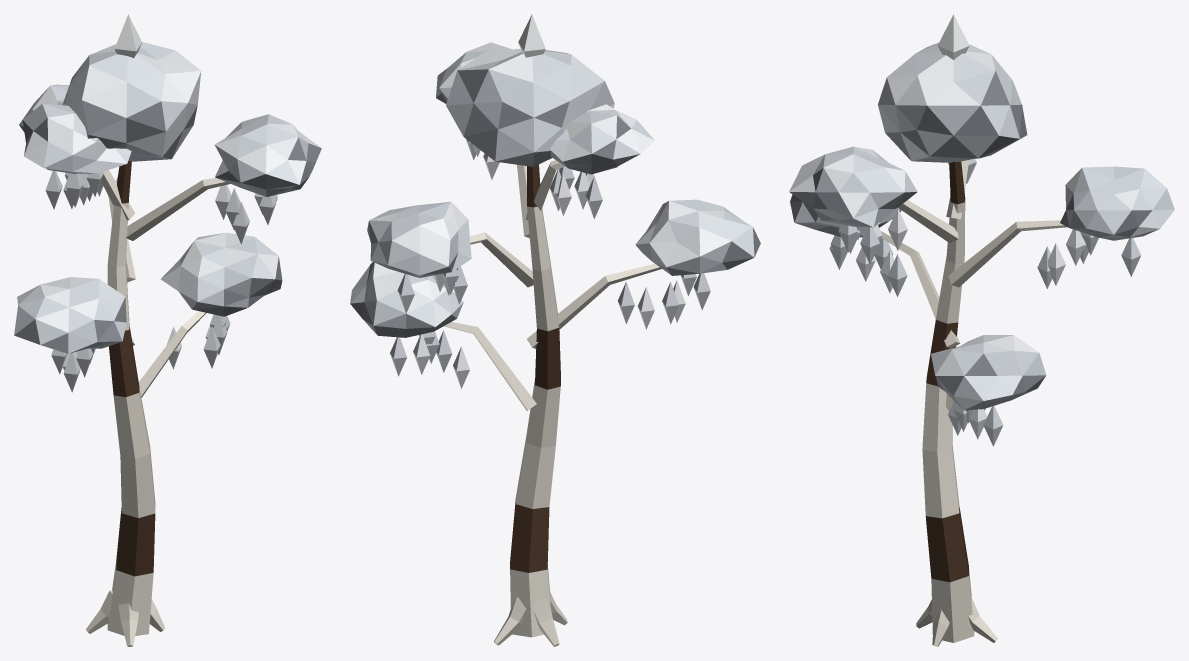
Rendered from GlimmerbarkTree.obj.
3 views of the same model, side by side, from view 1: azimuth 30°, elevation 25°; view 2: azimuth 150°, elevation 25°; view 3: azimuth 270°, elevation 25° (orthographic).
Bounding box in the file's own units: 7.72 × 13.69 × 7.71.
